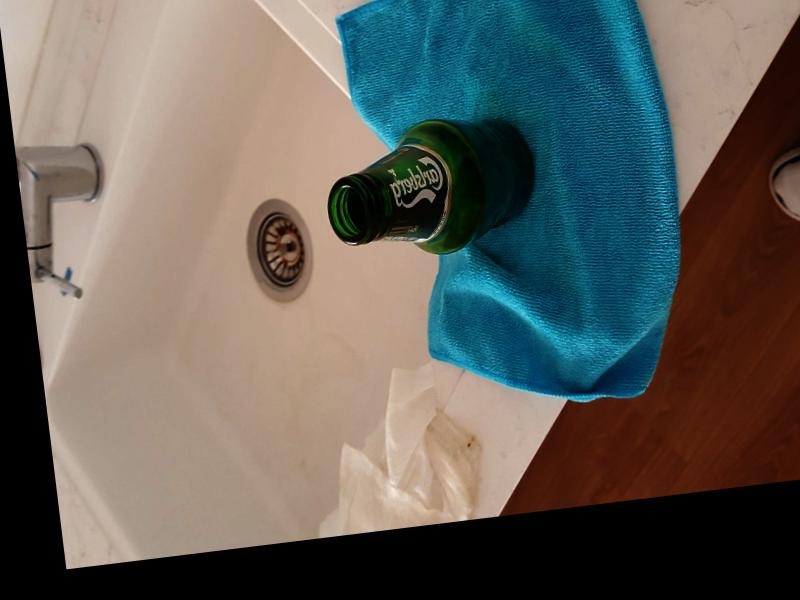Beer: (321, 113, 545, 268)
